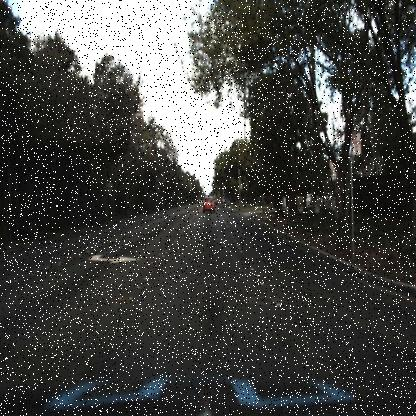car: (200, 190, 218, 218)
